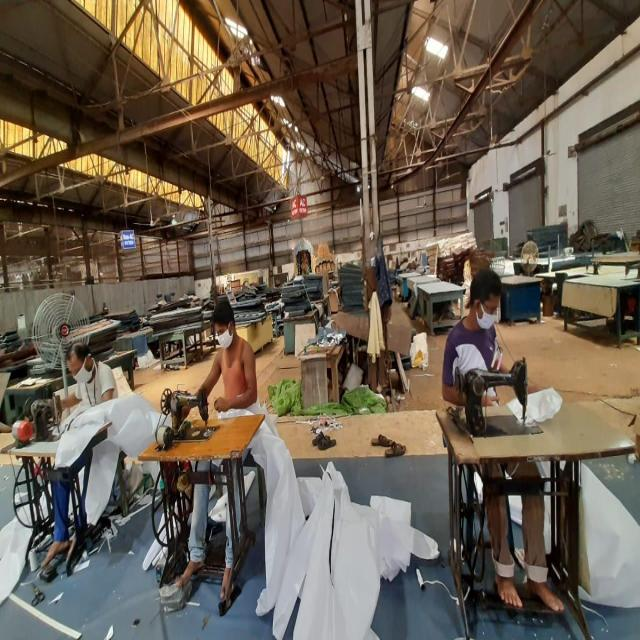Mask: (477, 304, 504, 332), (70, 359, 94, 387), (215, 326, 235, 348)
